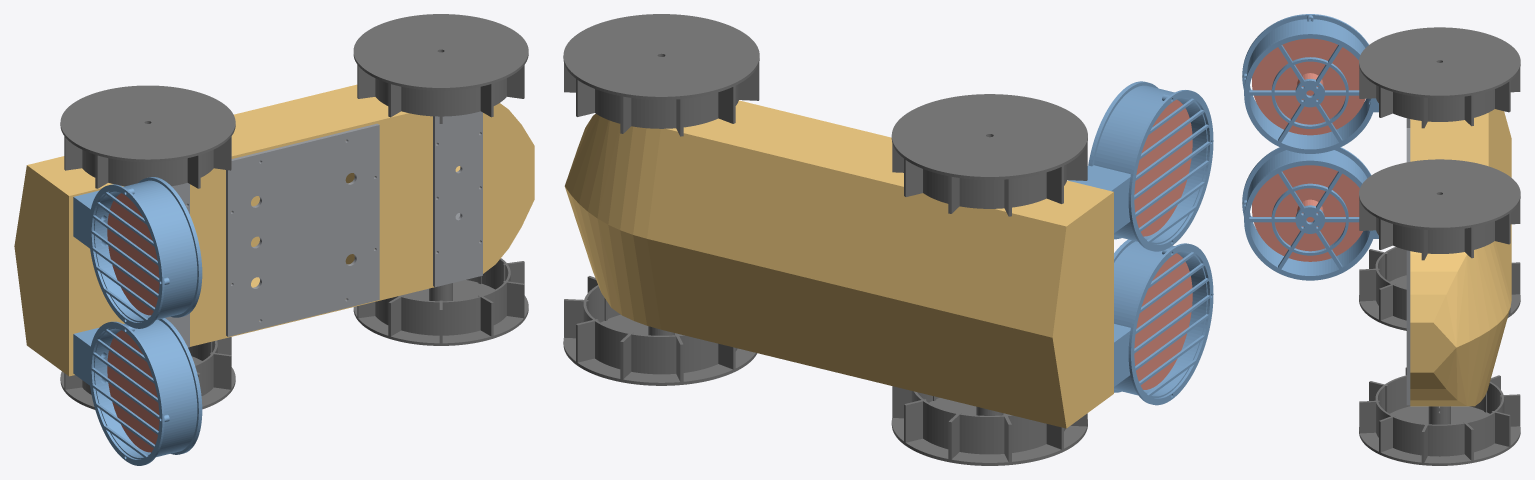
The model's file is assembly.glb.
The picture shows the model from 3 angles, left to right: view 1: azimuth 30°, elevation 25°; view 2: azimuth 150°, elevation 25°; view 3: azimuth 270°, elevation 25°; orthographic projection. The views are drawn at different scales.
Parts seen in each view (by area): view 1: bay_lid, hull_stern, hull_bow, wheel_+180_1, wheel_-160_1, wheel_+180_-1, pocket_cover_+180, fan_duct_1, fan_duct_-1, hull_mid, rear_guard_1, rear_guard_-1 (+4 smaller); view 2: hull_stern, hull_mid, hull_bow, wheel_+180_1, wheel_-160_1, wheel_+180_-1, wheel_-160_-1, fan_duct_1, fan_duct_-1, rear_guard_1, rear_guard_-1, fpv_motor_prop_-1 (+1 smaller); view 3: hull_bow, wheel_+180_1, wheel_-160_1, wheel_+180_-1, fan_duct_1, fan_duct_-1, fpv_motor_prop_1, fpv_motor_prop_-1, wheel_-160_-1, hull_mid, hull_stern, rear_guard_1 (+2 smaller).
Boxes of the visible parts, x1,y1,x2,y2 form: bay_lid: [226, 123, 379, 336]; hull_stern: [14, 156, 224, 376]; hull_bow: [337, 84, 534, 300]; wheel_+180_1: [353, 14, 528, 123]; wheel_-160_1: [60, 85, 235, 188]; wheel_+180_-1: [353, 258, 528, 345]; pocket_cover_+180: [433, 111, 482, 287]; fan_duct_1: [73, 177, 202, 322]; fan_duct_-1: [73, 318, 202, 459]; hull_mid: [224, 89, 379, 338]; rear_guard_1: [88, 184, 164, 328]; rear_guard_-1: [88, 321, 164, 465]; hull_stern: [878, 176, 1113, 428]; hull_mid: [705, 107, 903, 385]; hull_bow: [564, 100, 765, 343]; wheel_+180_1: [563, 14, 759, 136]; wheel_-160_1: [891, 94, 1087, 216]; wheel_+180_-1: [563, 276, 757, 385]; wheel_-160_-1: [891, 386, 1087, 465]; fan_duct_1: [1068, 81, 1207, 244]; fan_duct_-1: [1114, 239, 1207, 397]; rear_guard_1: [1128, 90, 1213, 251]; rear_guard_-1: [1128, 243, 1213, 405]; fpv_motor_prop_-1: [1134, 253, 1192, 389]; hull_bow: [1410, 241, 1511, 406]; wheel_+180_1: [1359, 159, 1520, 260]; wheel_-160_1: [1359, 27, 1520, 128]; wheel_+180_-1: [1359, 367, 1520, 465]; fan_duct_1: [1242, 15, 1378, 153]; fan_duct_-1: [1242, 150, 1378, 280]; fpv_motor_prop_1: [1252, 38, 1365, 135]; fpv_motor_prop_-1: [1252, 165, 1362, 261]; wheel_-160_-1: [1359, 246, 1520, 330]; hull_mid: [1410, 124, 1511, 277]; hull_stern: [1410, 109, 1511, 177]; rear_guard_1: [1242, 14, 1368, 90].
Bounding box in the file's own units: 540 × 300 × 303.
